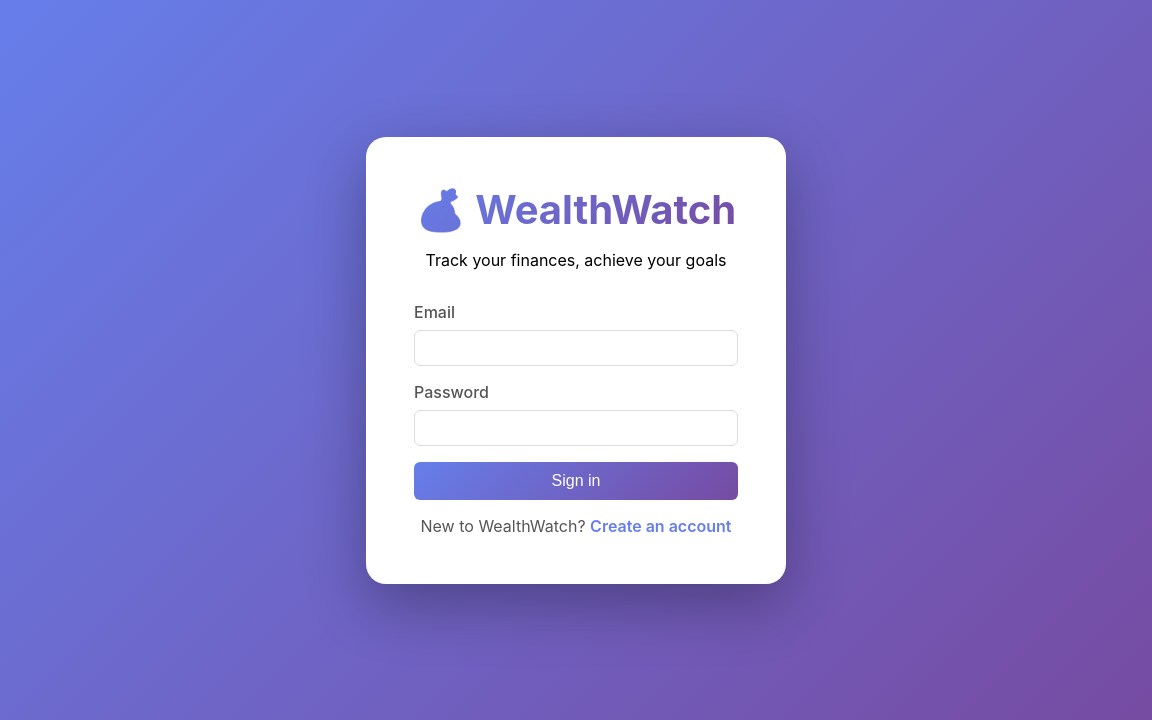
Test case: shows why a sign-in was rejected
Step 1. Type "alice@example.com" into the field labelled "Email" → (576, 348), box x1=414 y1=330 x2=738 y2=366
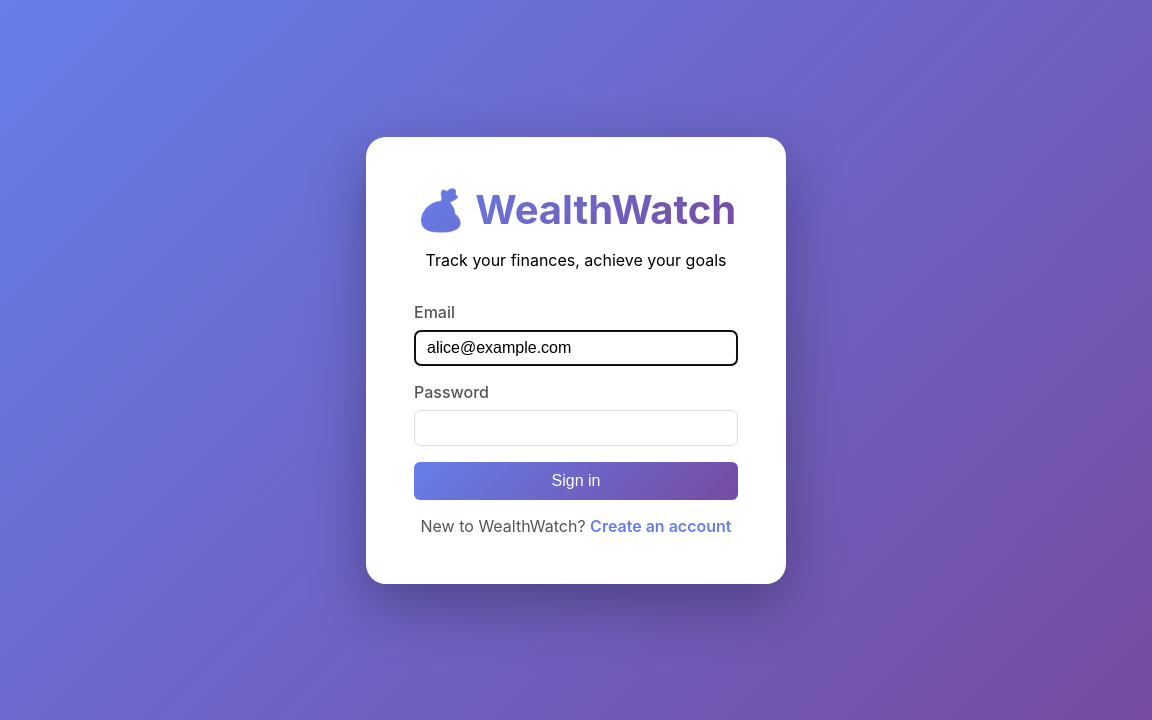
Step 2. Type "wrong password" into the password field labelled "Password" → (576, 428), box x1=414 y1=410 x2=738 y2=446
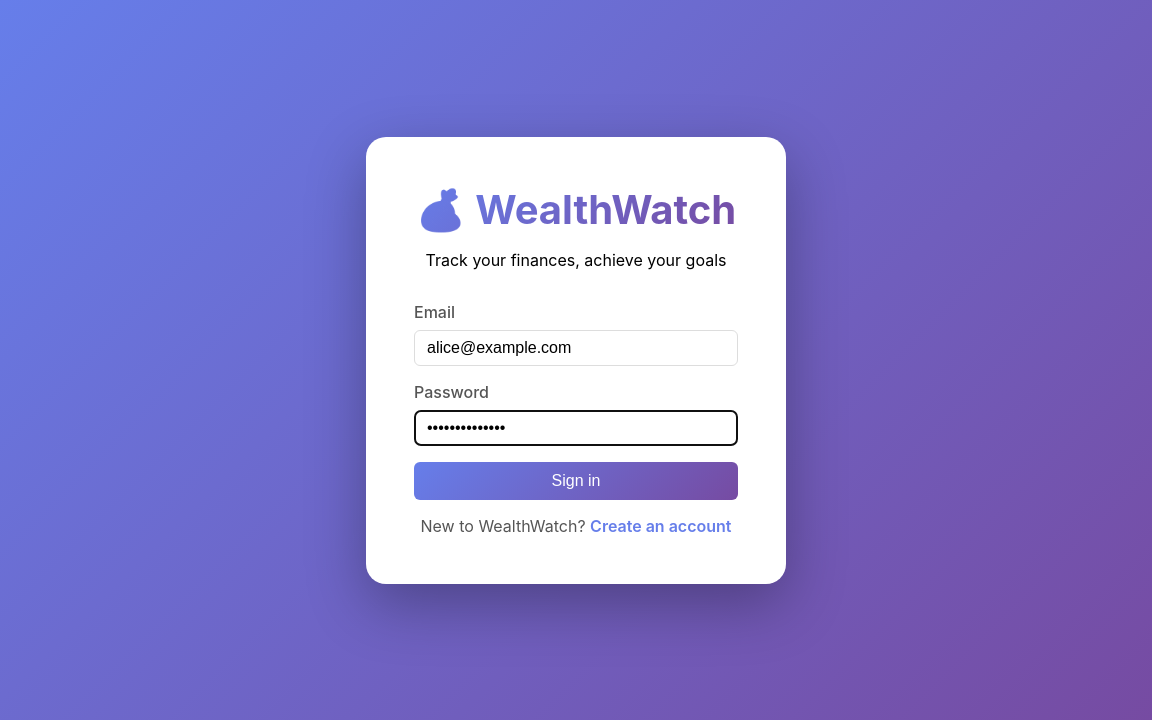
Step 3. Click the button "Sign in" → (576, 480), box x1=414 y1=462 x2=738 y2=500
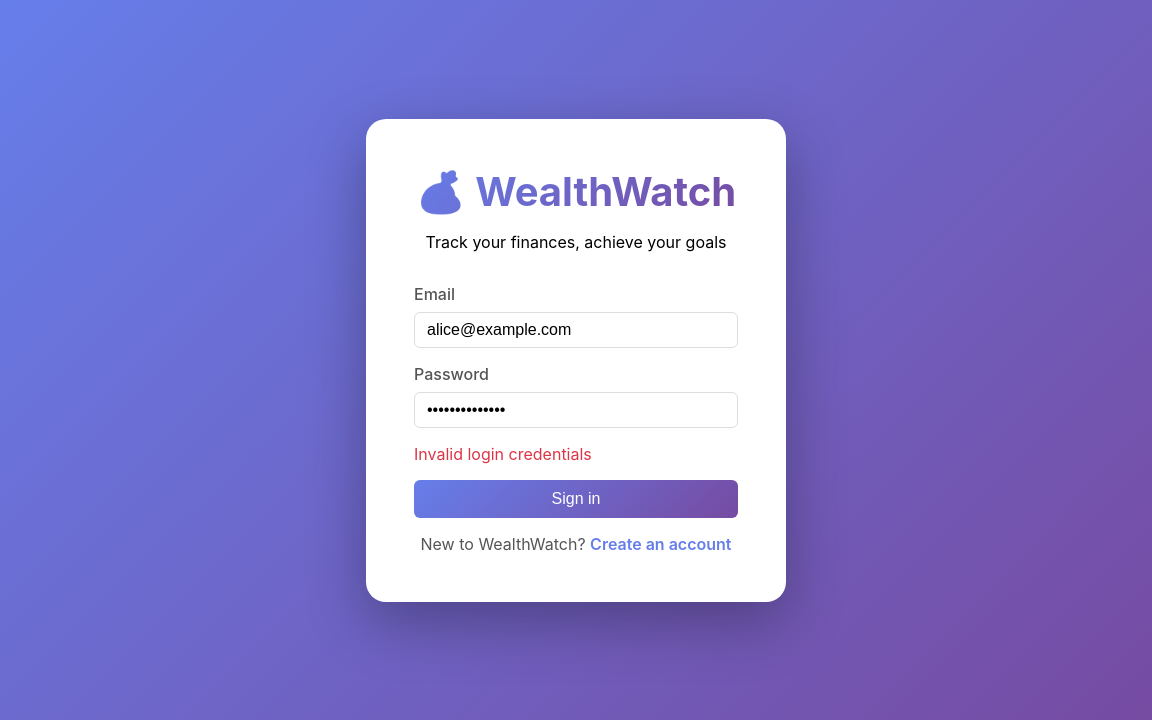
Expected: the text "Invalid login credentials" is shown, x1=414 y1=444 x2=592 y2=464
